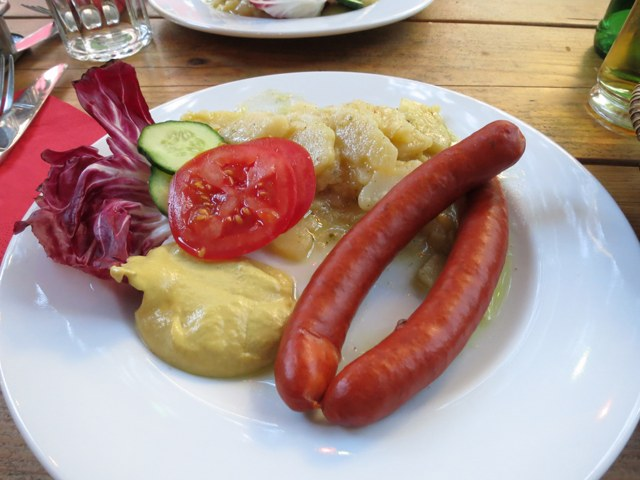tomato: (170, 146, 298, 260), (240, 137, 314, 232)
